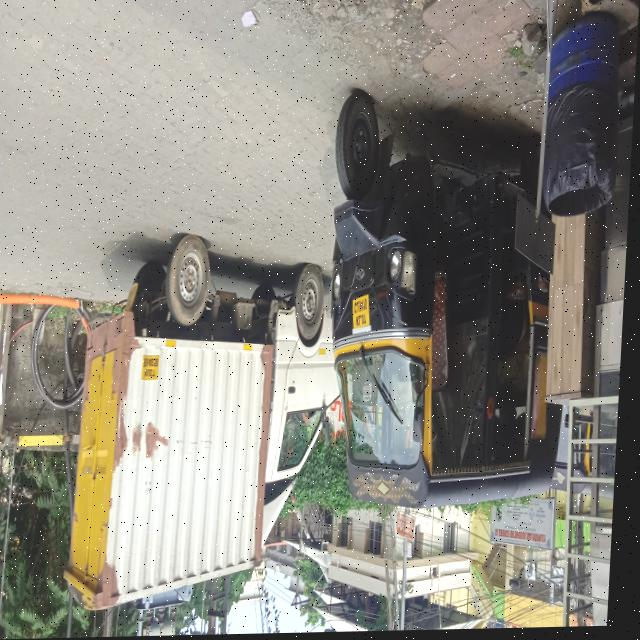plate: (354, 296, 375, 334), (144, 355, 165, 385)
